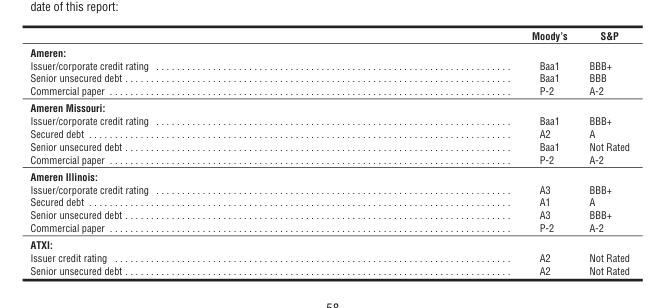table: (29, 28, 628, 276)
table column: (29, 28, 339, 276), (339, 28, 577, 276), (577, 28, 628, 276)
table column header: (29, 28, 628, 43)
table projected row header: (29, 43, 628, 58), (29, 98, 628, 113), (29, 167, 628, 182), (29, 235, 628, 250)
table row: (29, 28, 628, 43), (29, 43, 628, 58), (29, 98, 628, 113), (29, 152, 628, 167), (29, 167, 628, 182), (29, 235, 628, 250), (29, 84, 628, 98), (29, 221, 628, 235), (29, 58, 628, 71), (29, 71, 628, 84), (29, 113, 628, 126), (29, 126, 628, 139), (29, 139, 628, 152), (29, 182, 628, 195), (29, 195, 628, 208), (29, 208, 628, 221), (29, 250, 628, 263), (29, 263, 628, 276)
